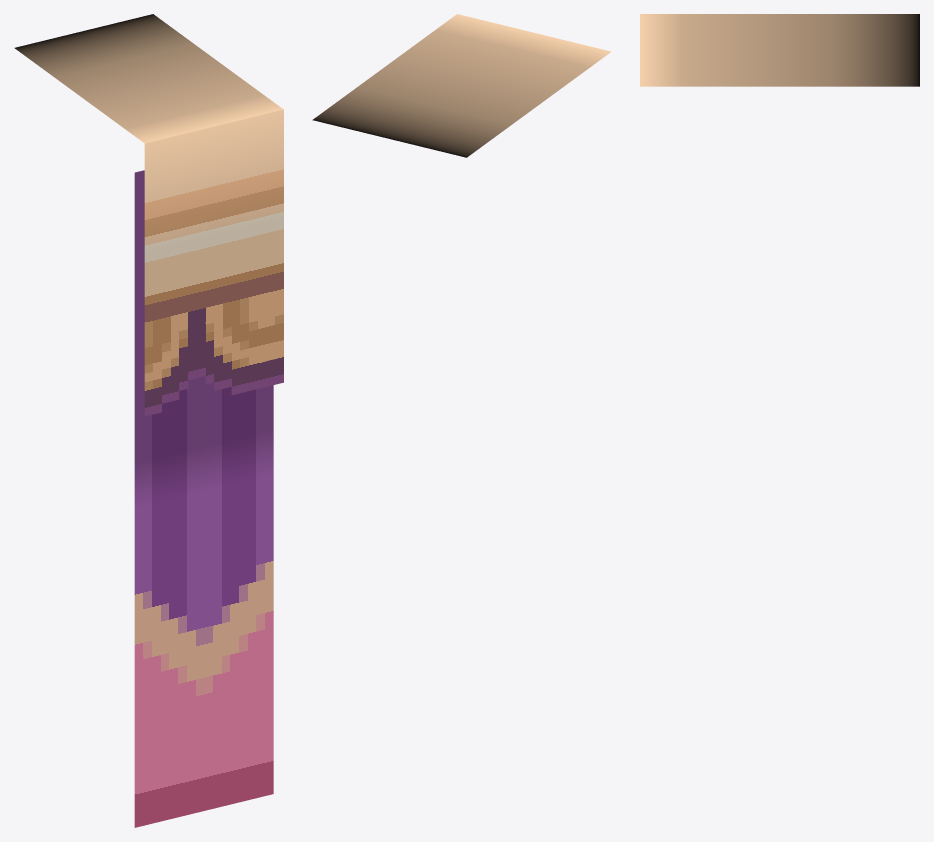
3 renders of one model, left to right at view 1: azimuth 30°, elevation 25°; view 2: azimuth 150°, elevation 25°; view 3: azimuth 270°, elevation 25°, orthographic. The views are drawn at different scales.
Size of the model in its own units: 1 by 4.75 by 1.62.
3 materials, 3 textured.
